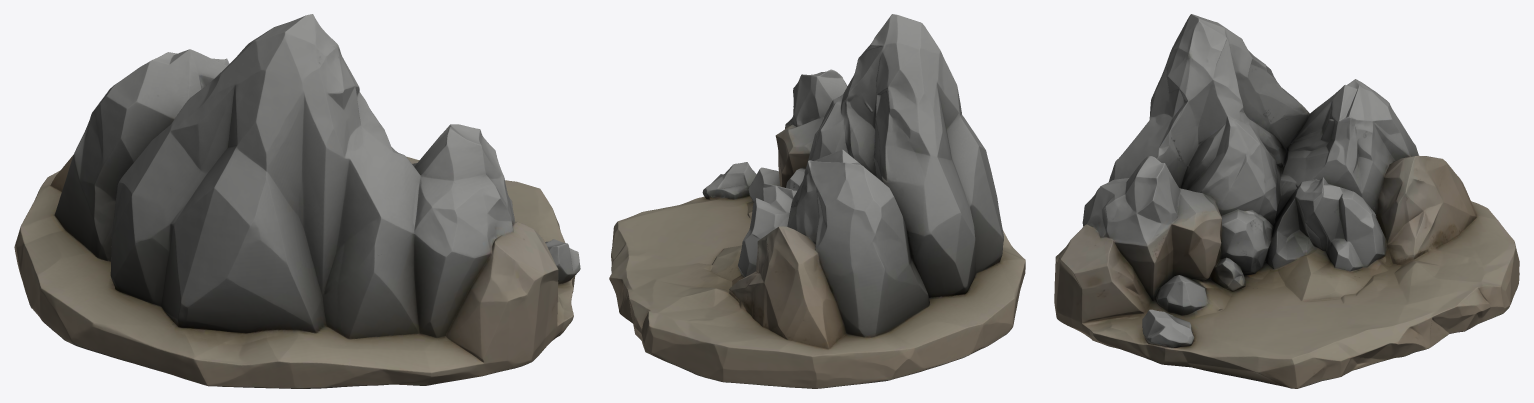
Rendered from paete_4.glb.
The picture shows the model from 3 angles, left to right: view 1: azimuth 30°, elevation 25°; view 2: azimuth 150°, elevation 25°; view 3: azimuth 270°, elevation 25°; orthographic projection. The views are drawn at different scales.
Visible parts, largest first — view 1: meshes[0]; view 2: meshes[0]; view 3: meshes[0].
Boxes of the visible parts, x1,y1,x2,y2 form: meshes[0]: (14,14,580,388); meshes[0]: (609,14,1025,388); meshes[0]: (1054,14,1519,388).
Bounding box in the file's own units: 0.3363 × 0.2145 × 0.3521.
1 material, 1 textured.
